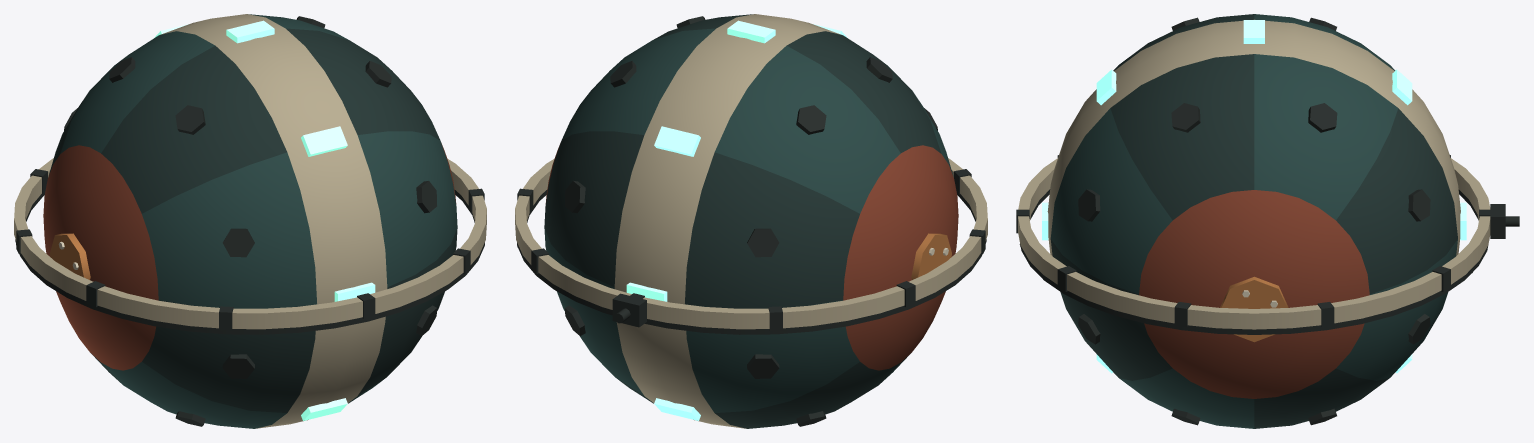
File: ball_look_cutaway.glb
3 renders of one model, left to right at view 1: azimuth 30°, elevation 25°; view 2: azimuth 150°, elevation 25°; view 3: azimuth 270°, elevation 25°, orthographic.
Parts seen in each view (by area): view 1: Core, WeaponRing; view 2: Core, WeaponRing; view 3: Core, WeaponRing.
Part boxes in pixels (x1=…): Core: x1=43, y1=14, x2=457, y2=428; WeaponRing: x1=14, y1=158, x2=486, y2=334; Core: x1=544, y1=14, x2=958, y2=428; WeaponRing: x1=515, y1=158, x2=987, y2=334; Core: x1=1042, y1=14, x2=1466, y2=428; WeaponRing: x1=1016, y1=155, x2=1519, y2=334.
Size of the model in its own units: 2.16 by 1.94 by 2.3.
